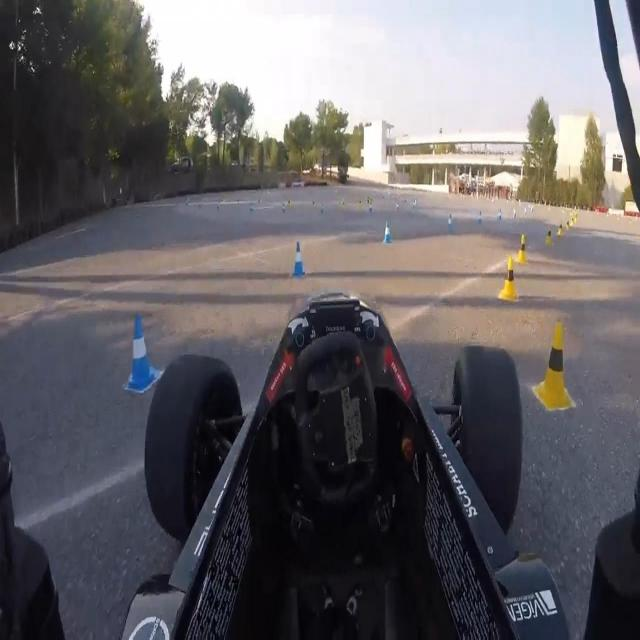blue_cone: (123, 310, 161, 392), (290, 241, 307, 279), (382, 220, 392, 244), (447, 212, 454, 235), (496, 209, 502, 224), (478, 210, 483, 227), (513, 206, 517, 222)
yellow_cone: (535, 322, 573, 413), (499, 257, 519, 304), (515, 230, 528, 265), (546, 223, 553, 245), (557, 219, 564, 238), (565, 217, 571, 232)
